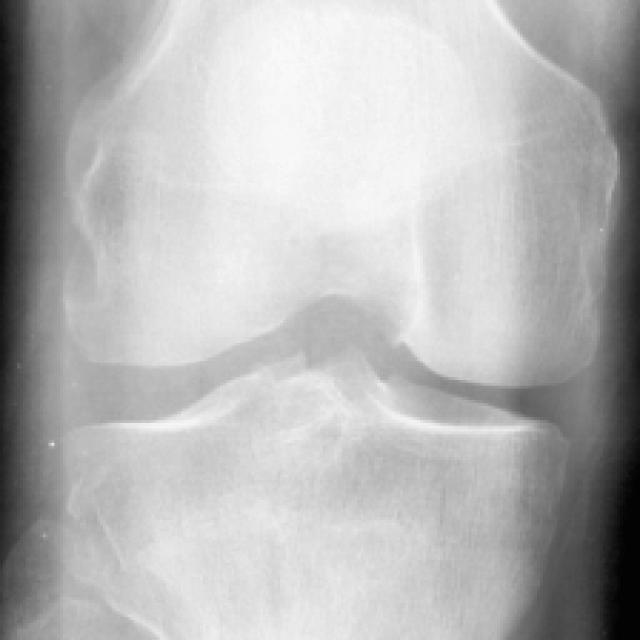femur: (69, 1, 621, 386)
tibia: (58, 351, 571, 640)
